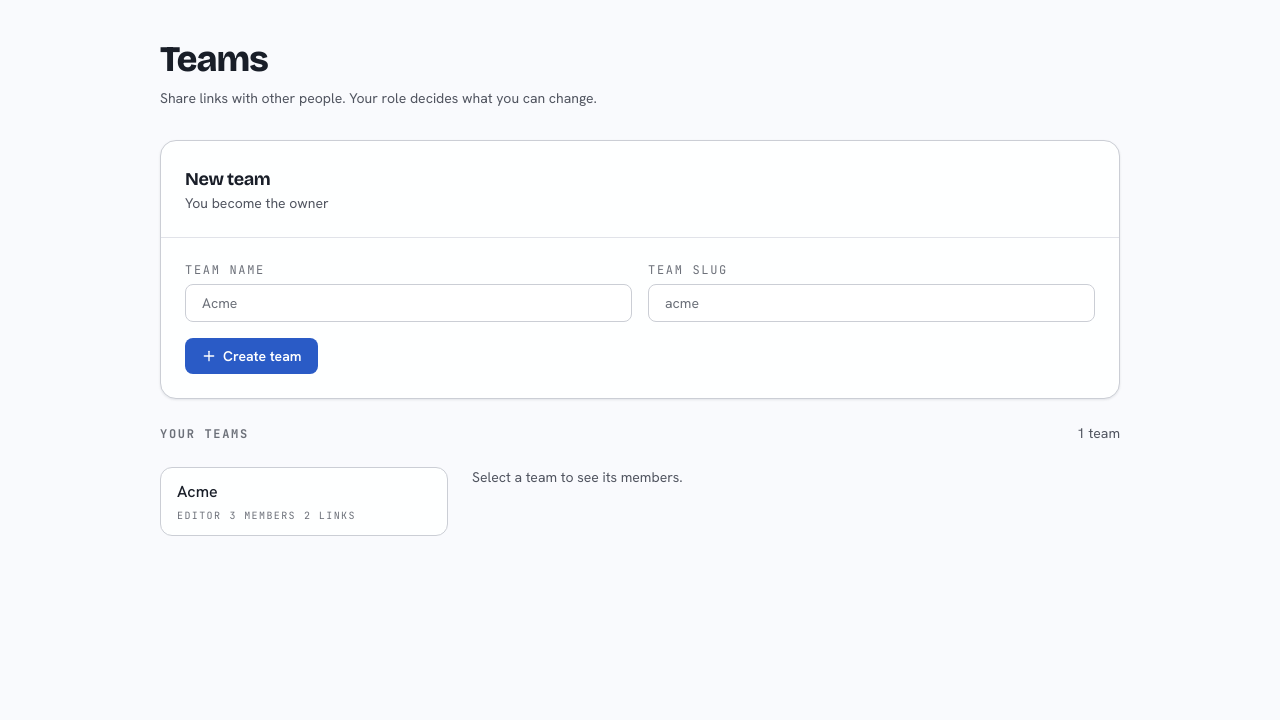
Organizations page › editor sees only the controls that role allows
Step 1. Click the button "Acme Editor 3 members 2 links" → (197,492), box [160,467,448,536]
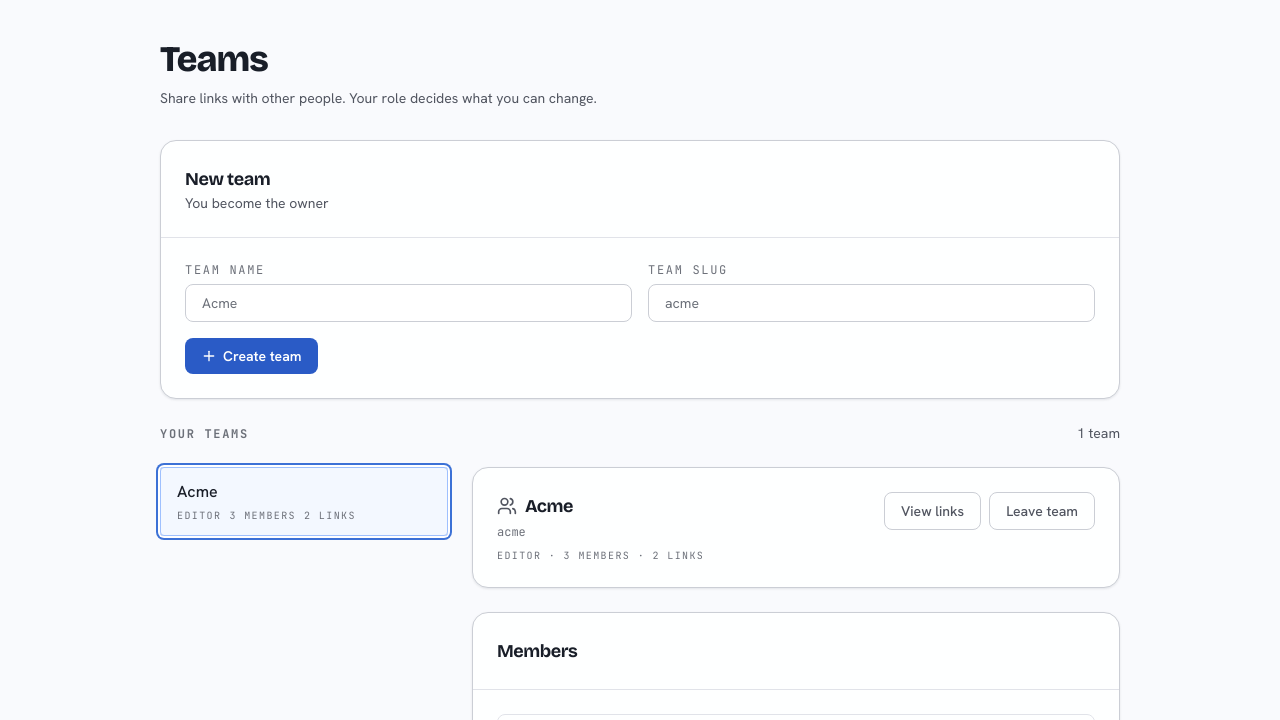
Now the button "Leave team" is shown, box [989,492,1095,530]
